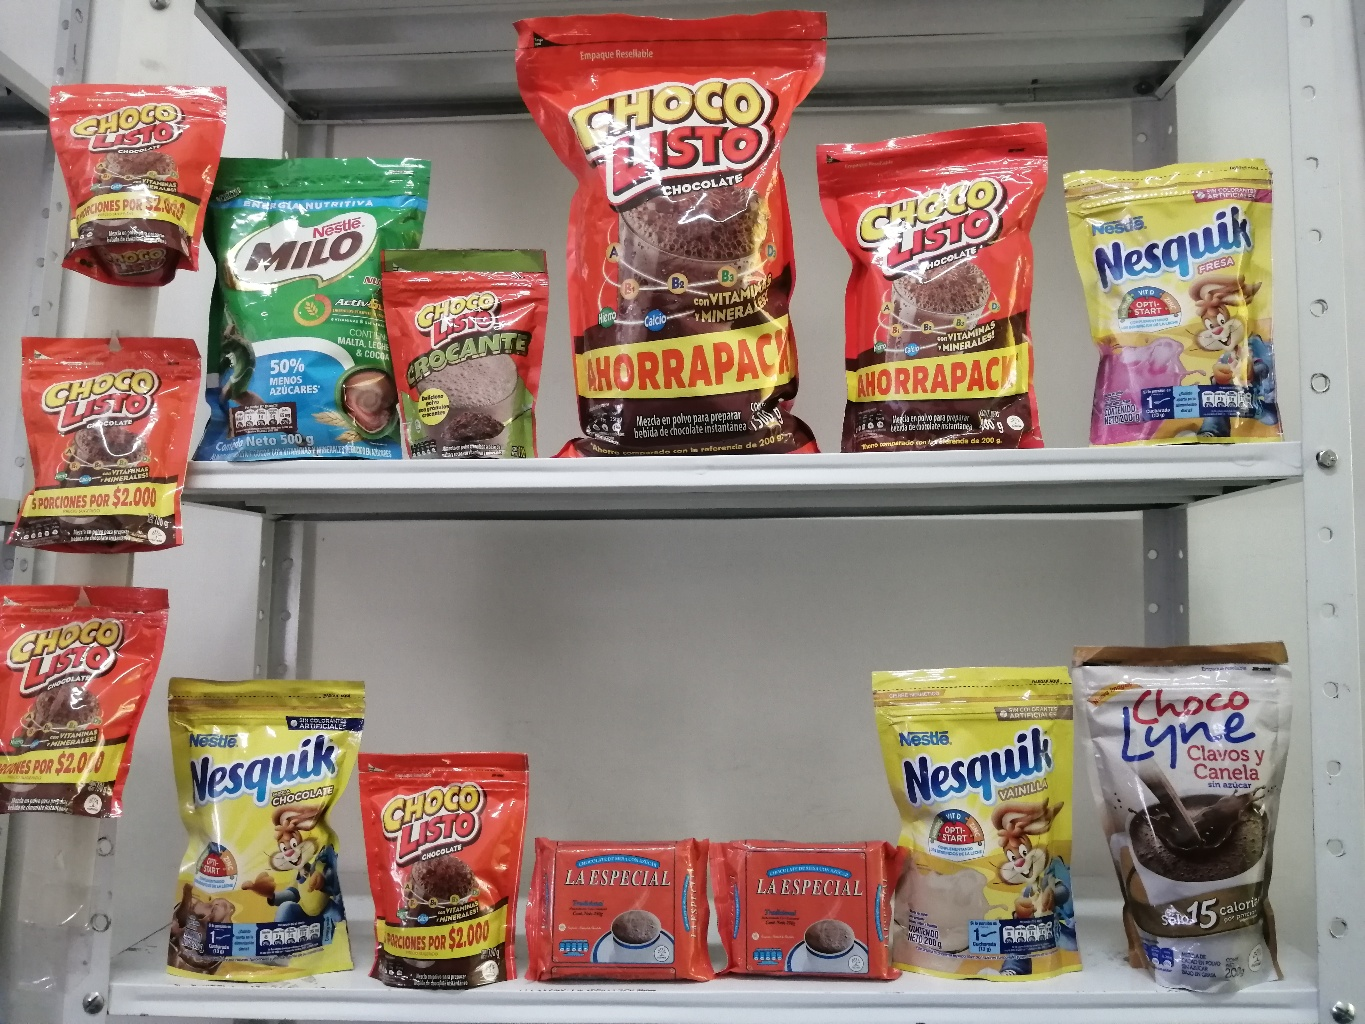COL0170102DYP10000: (380, 247, 546, 458)
COL0170103DYP1,500: (513, 15, 836, 454)
COL0170103DYP10000: (49, 81, 226, 285)
COL0170103DYP40000: (826, 119, 1060, 444)
COL0170205DYP50000: (207, 152, 429, 458)
COL0170303DYP20000: (169, 672, 362, 975)
COL0170305DYP20000: (1060, 165, 1290, 446)
COL0170306DYP20000: (867, 666, 1093, 977)
